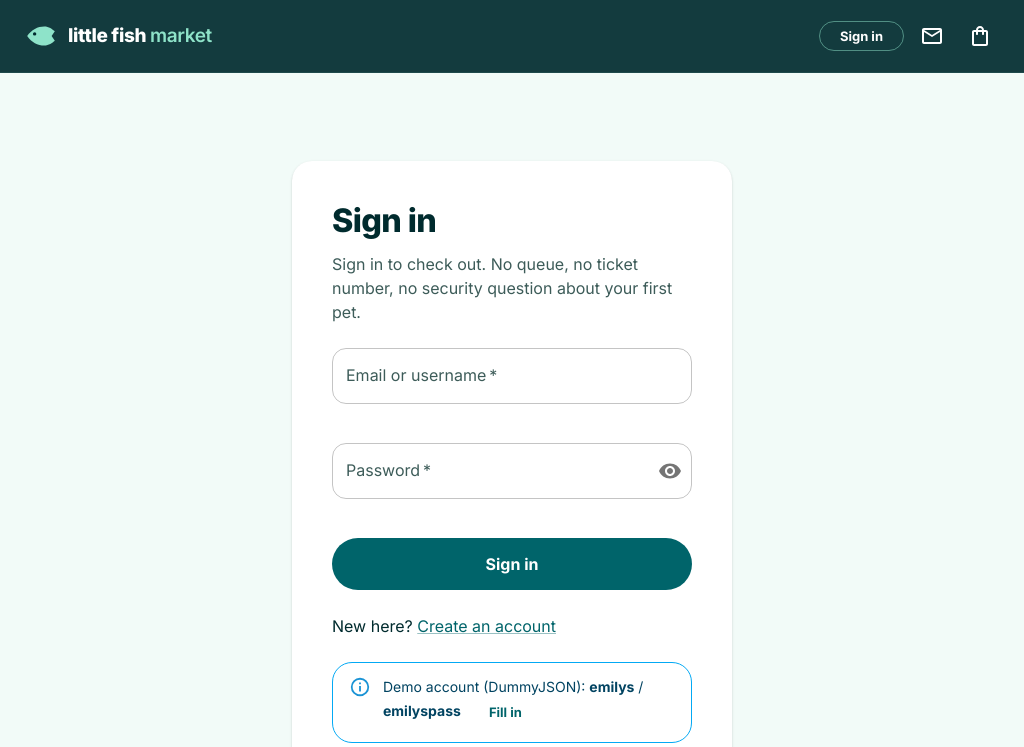
Test: Registration (Supabase Auth) › links between sign-in and register
The image size is (1024, 747).
Click the link "Create an account".
click(487, 626)  # box [417,616,556,636]
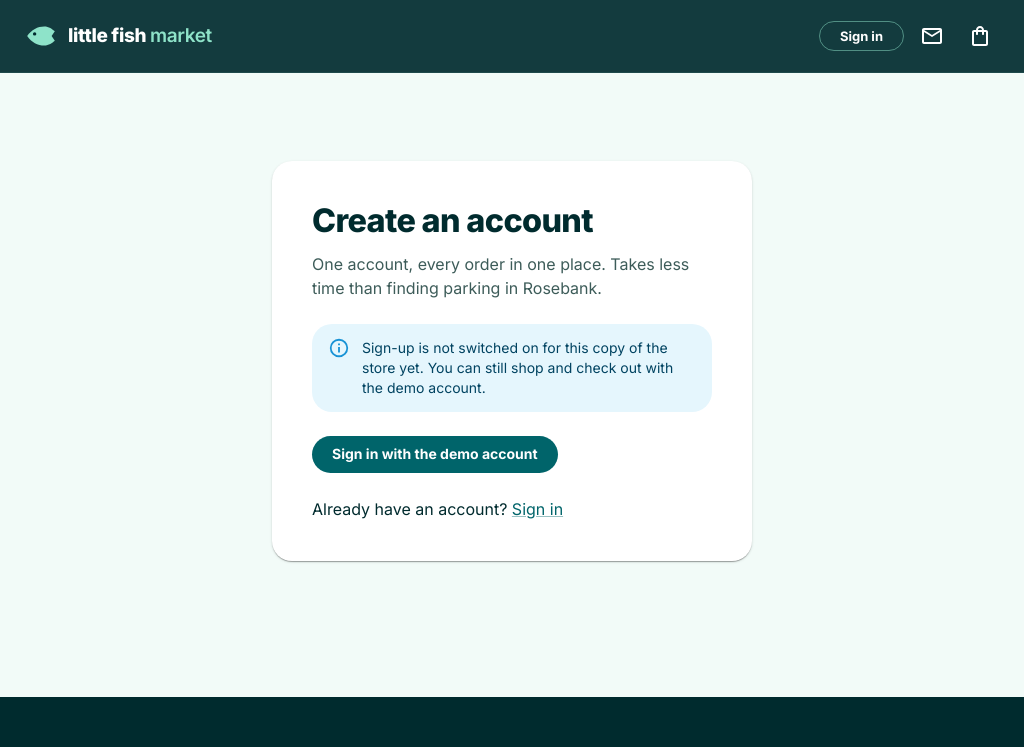
Check: the heading "Create an account" is shown, box [312,201,593,240]
# Scoped to the form card: the header has its own "Sign in" link.
Click the link "Sign in" next to "Already have an account?".
click(538, 509)  # box [512,499,563,519]
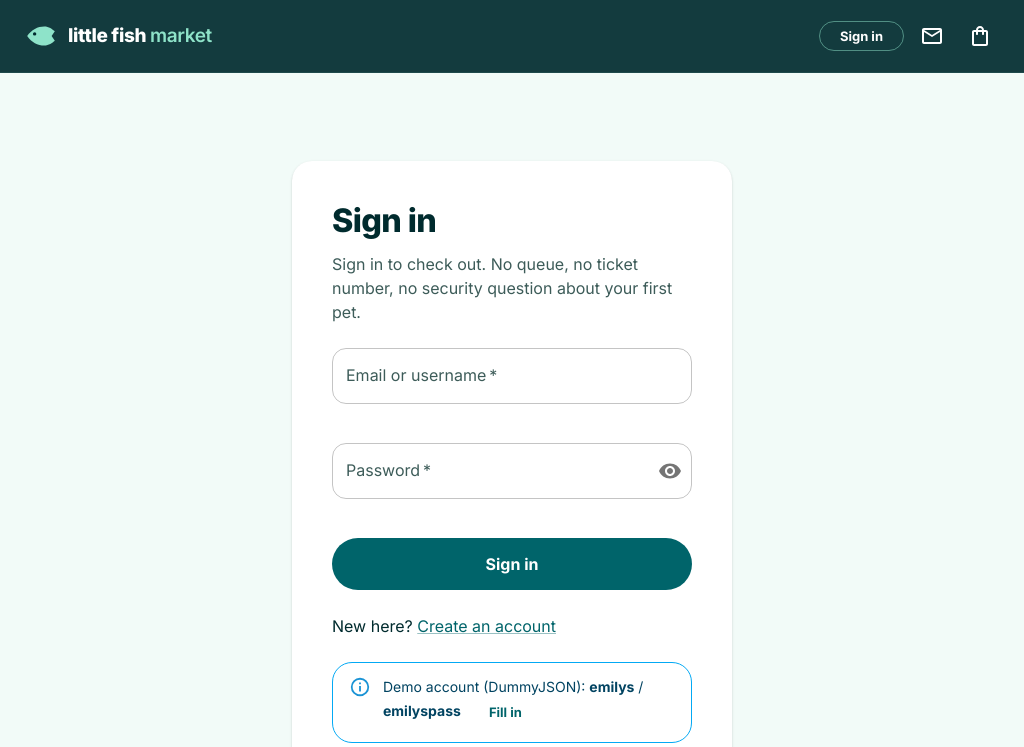
Check: the heading "Sign in" is shown, box [332,201,436,240]
